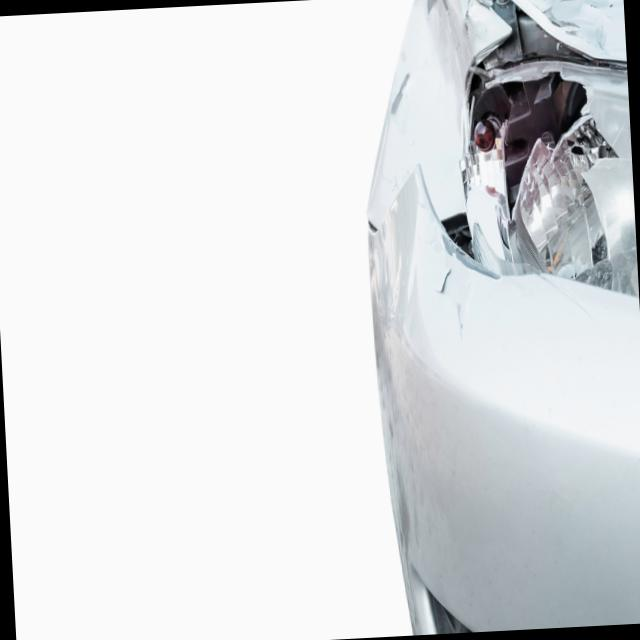Dechirure: (431, 259, 470, 351)
Phare abime: (455, 53, 635, 306)
